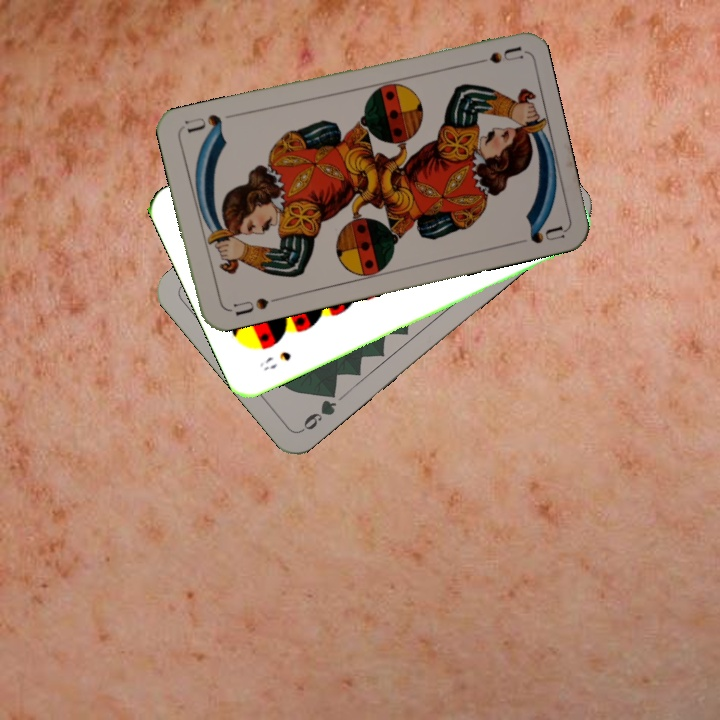G9: (297, 384, 339, 435)
S8: (255, 347, 294, 373)
SU: (464, 43, 523, 69), (229, 293, 282, 319)
